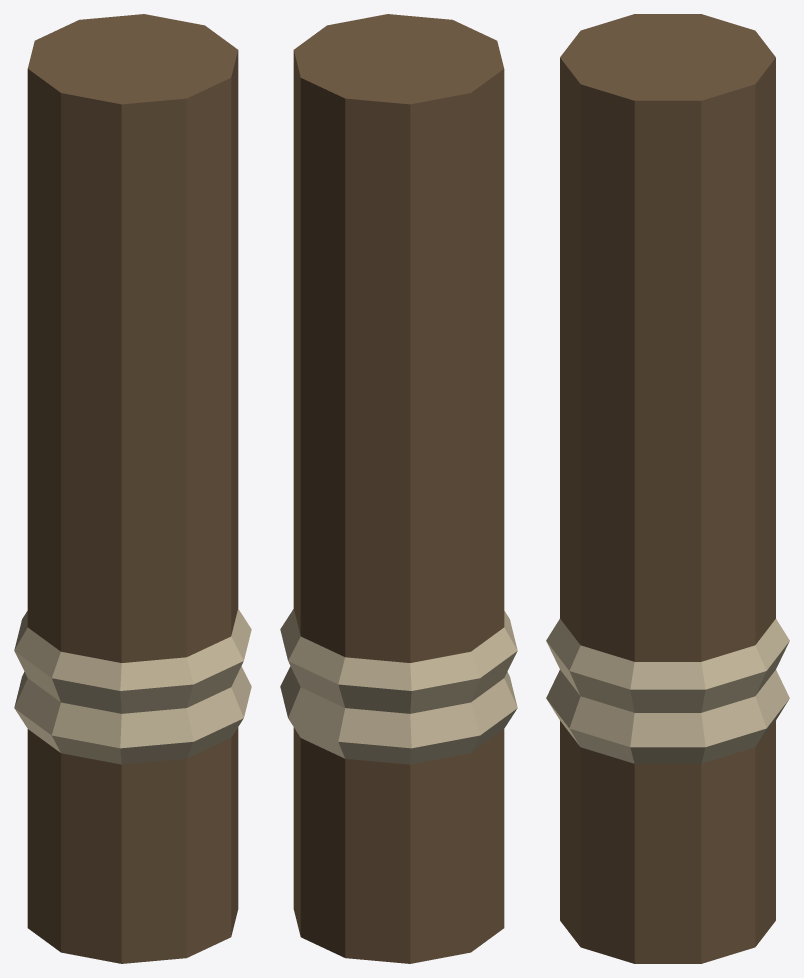
File: rpgpp_ag_wall_connector_corner_04_3m.fbx
3 renders of one model, left to right at view 1: azimuth 30°, elevation 25°; view 2: azimuth 150°, elevation 25°; view 3: azimuth 270°, elevation 25°, orthographic.
Visible parts, largest first — view 1: rpgpp_ag_wall_connector_corner_04_3m; view 2: rpgpp_ag_wall_connector_corner_04_3m; view 3: rpgpp_ag_wall_connector_corner_04_3m.
Boxes of the visible parts, x1=… form: rpgpp_ag_wall_connector_corner_04_3m: x1=14, y1=14, x2=251, y2=963; rpgpp_ag_wall_connector_corner_04_3m: x1=280, y1=14, x2=517, y2=963; rpgpp_ag_wall_connector_corner_04_3m: x1=546, y1=14, x2=789, y2=963.
Size of the model in its own units: 0.7306 by 3 by 0.7682.
